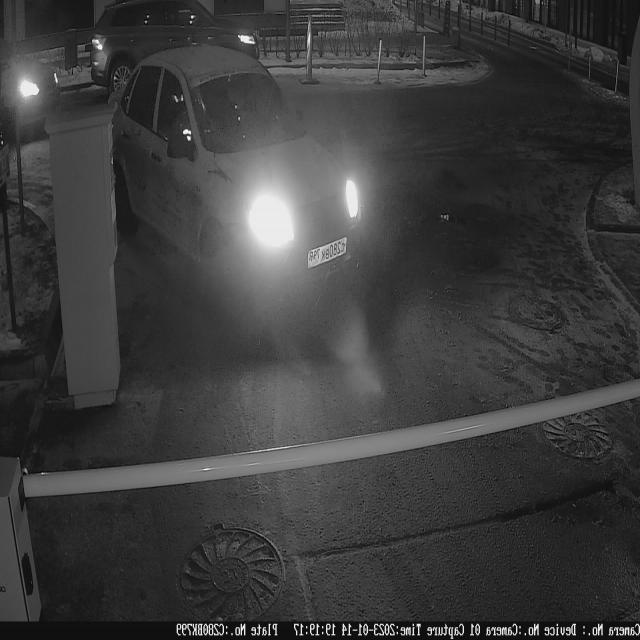car-plate-numbers: (307, 232, 350, 276)
